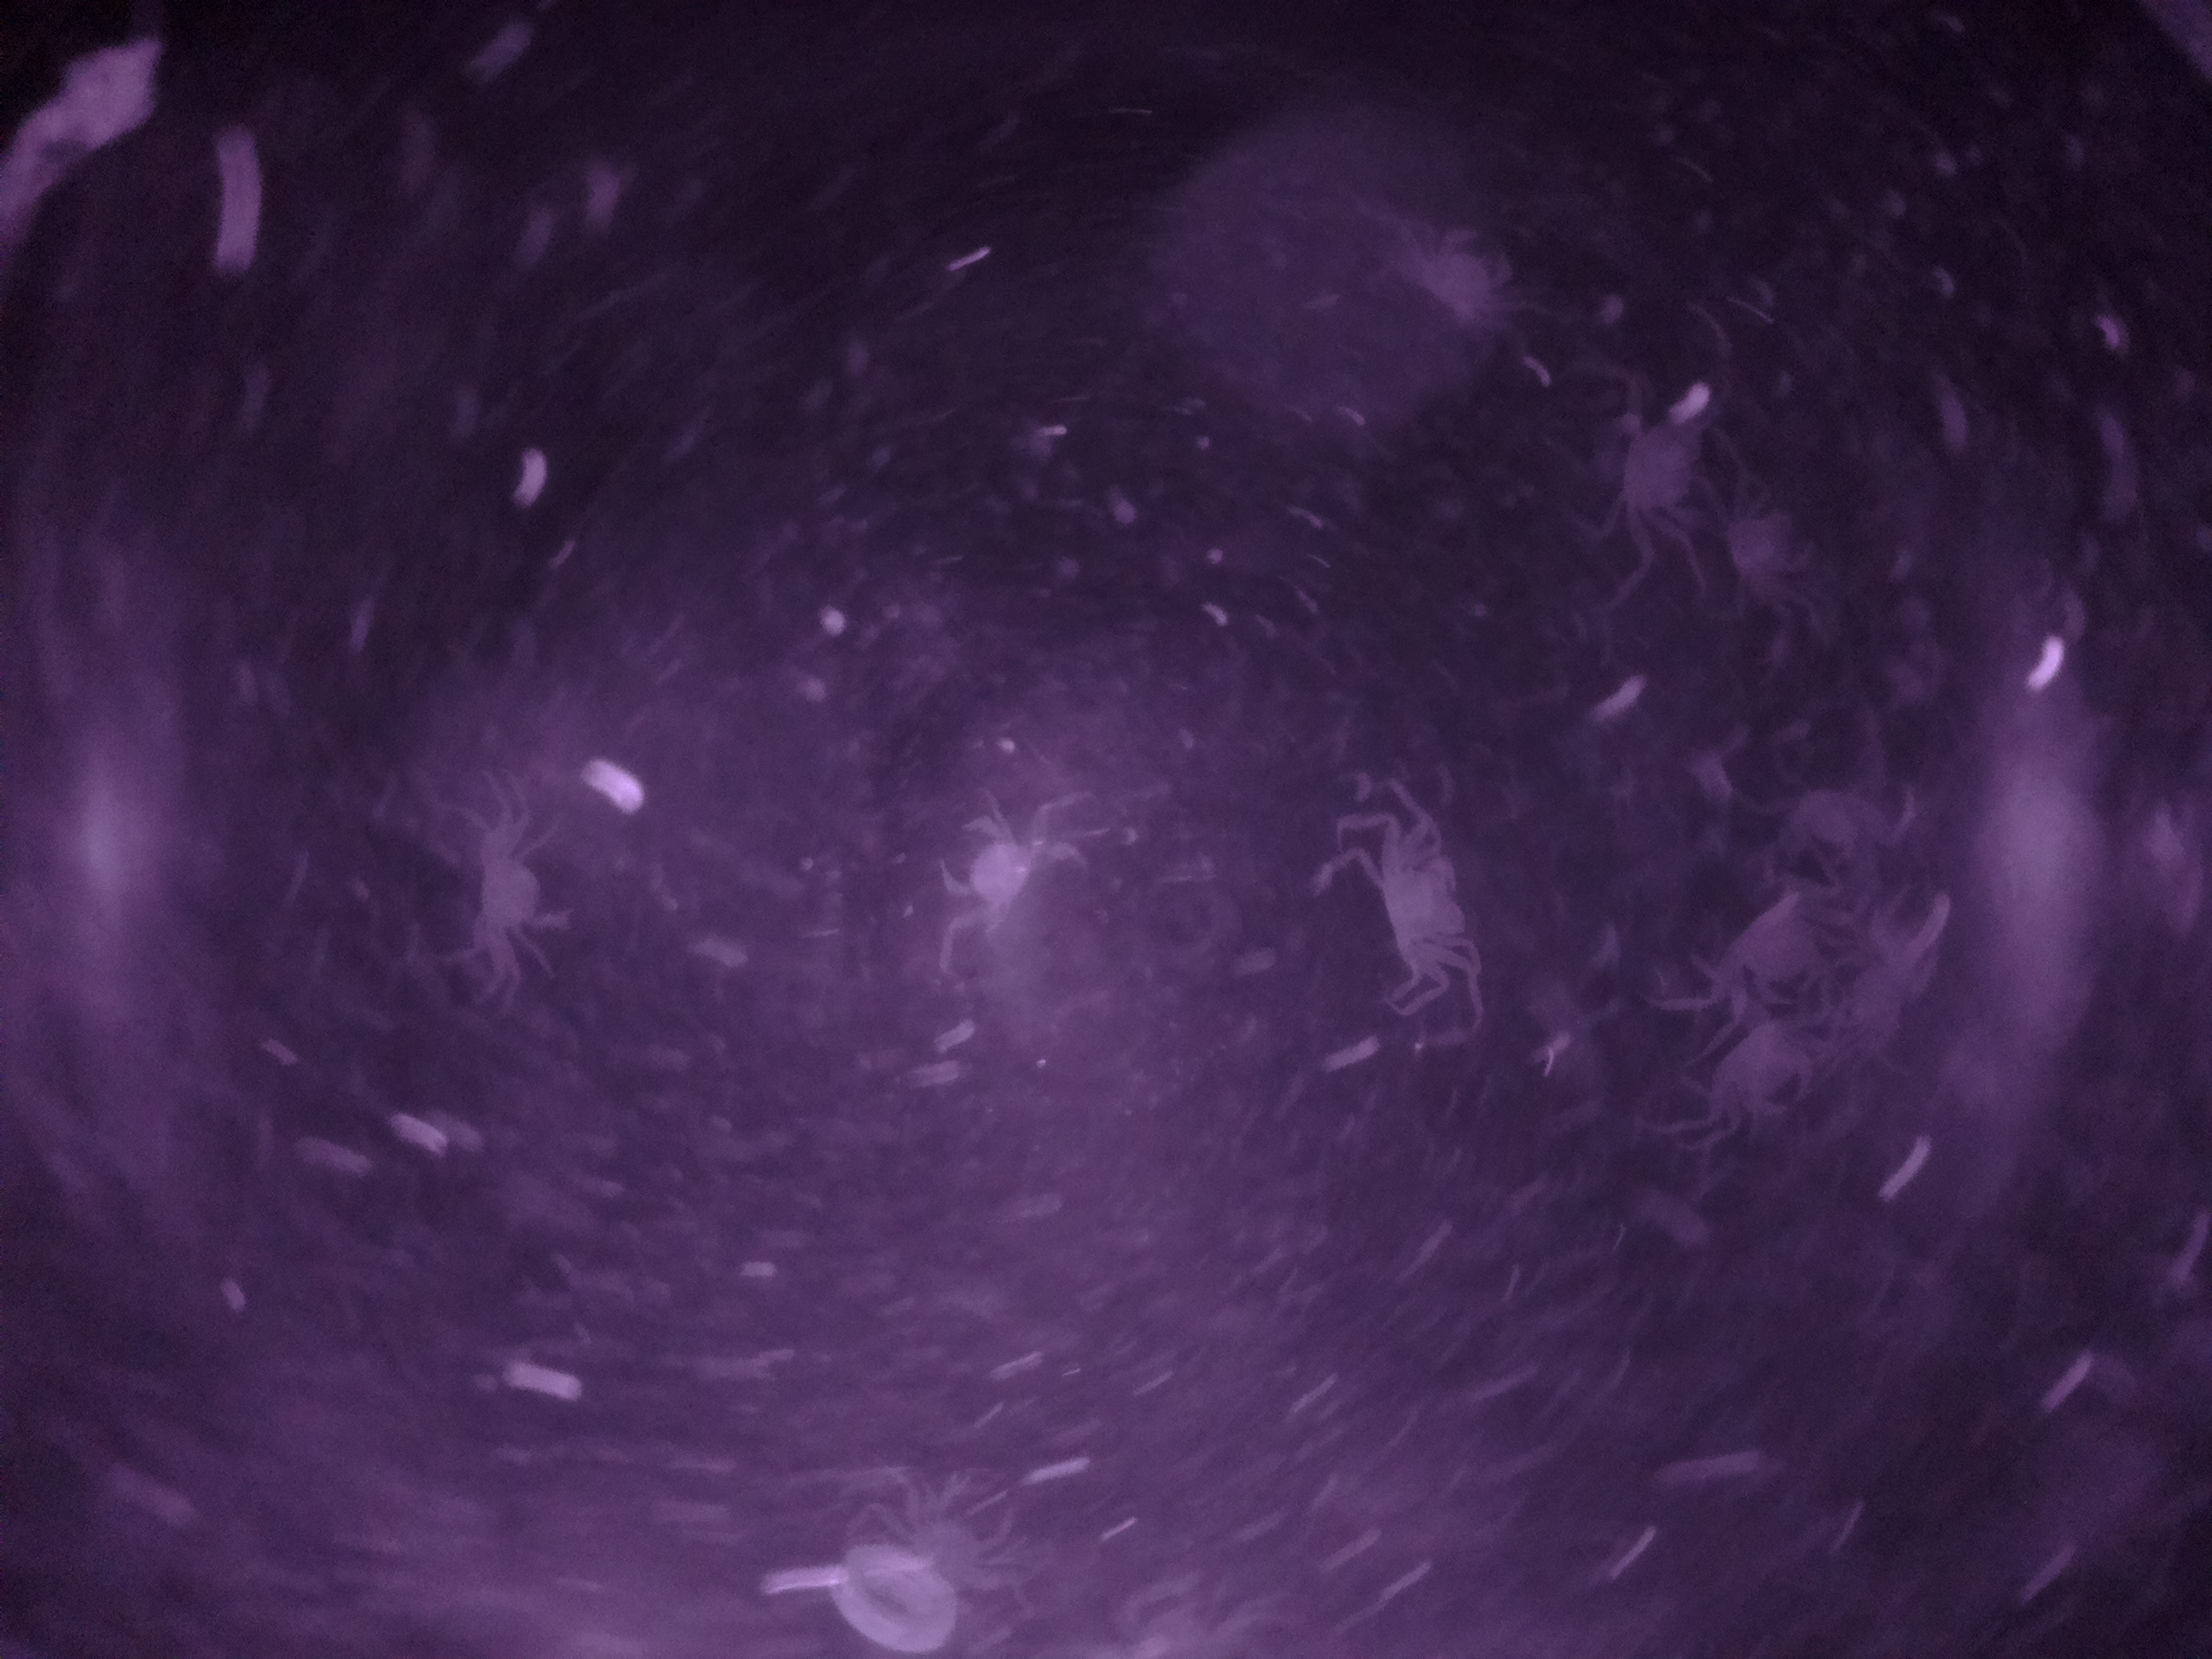Crab: (1345, 795, 1501, 1012), (446, 802, 596, 974)
